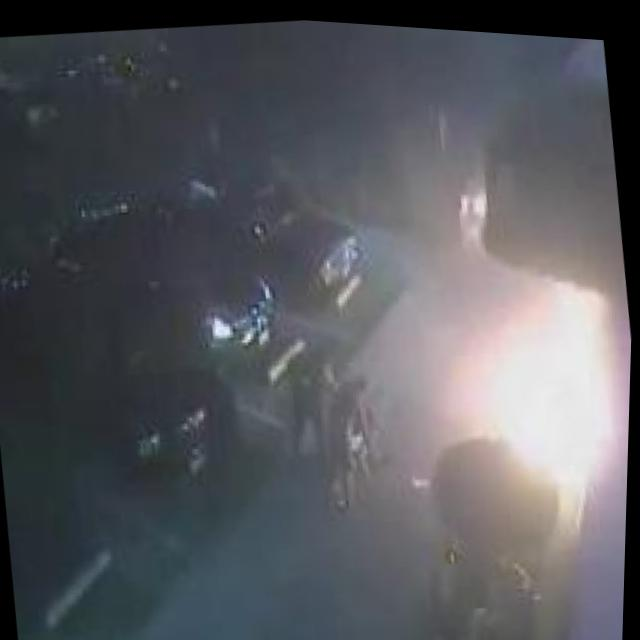fire: (442, 264, 634, 504), (450, 169, 496, 217)
